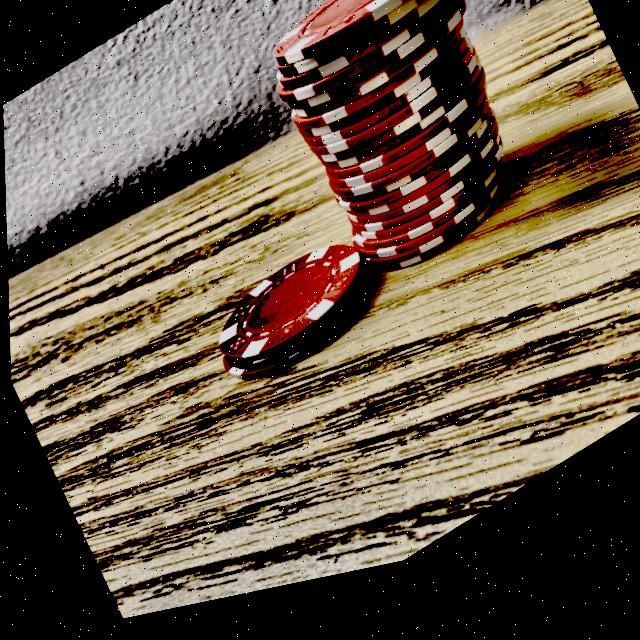Chip: (208, 0, 593, 364), (172, 200, 407, 442)
